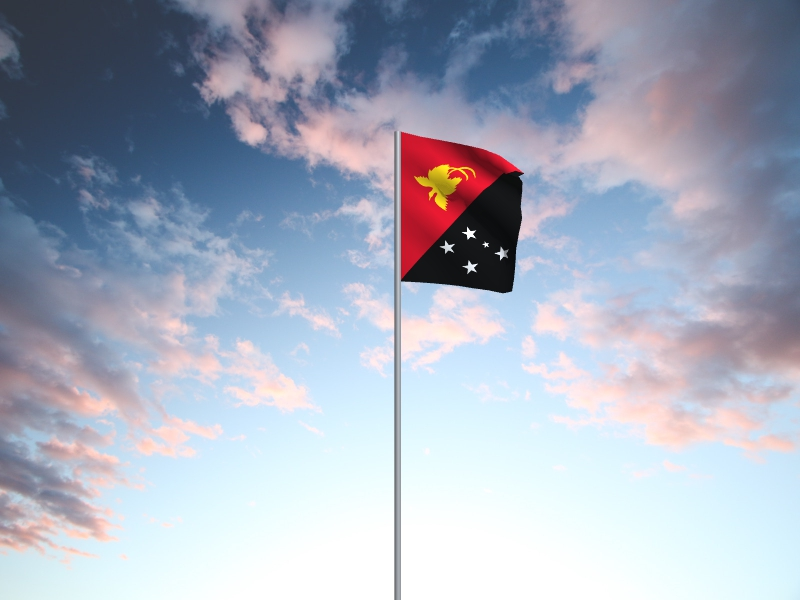pg: (401, 133, 526, 295)
